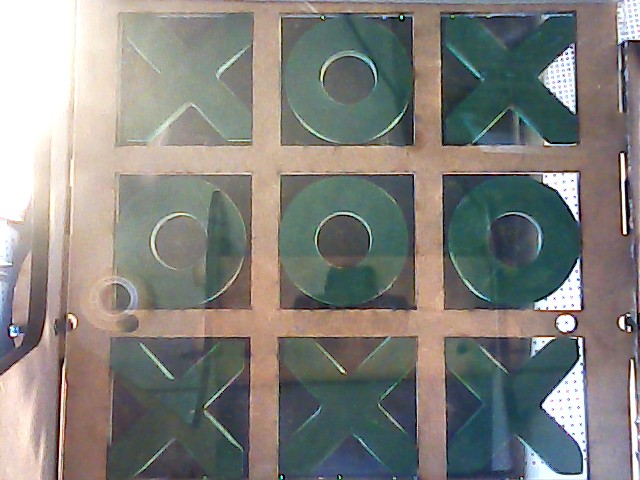O: (115, 176, 248, 308), (449, 179, 585, 305), (281, 15, 412, 144), (286, 177, 415, 306)
X: (284, 335, 420, 479), (447, 339, 584, 480), (114, 339, 245, 480), (443, 11, 578, 145), (117, 13, 244, 142)
